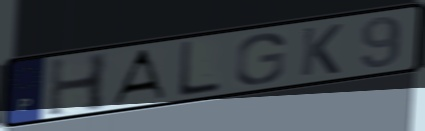9: (358, 14, 403, 71)
A: (106, 46, 168, 106)
G: (233, 31, 288, 86)
H: (45, 50, 111, 119)
K: (297, 21, 345, 78)
L: (175, 39, 222, 99)
